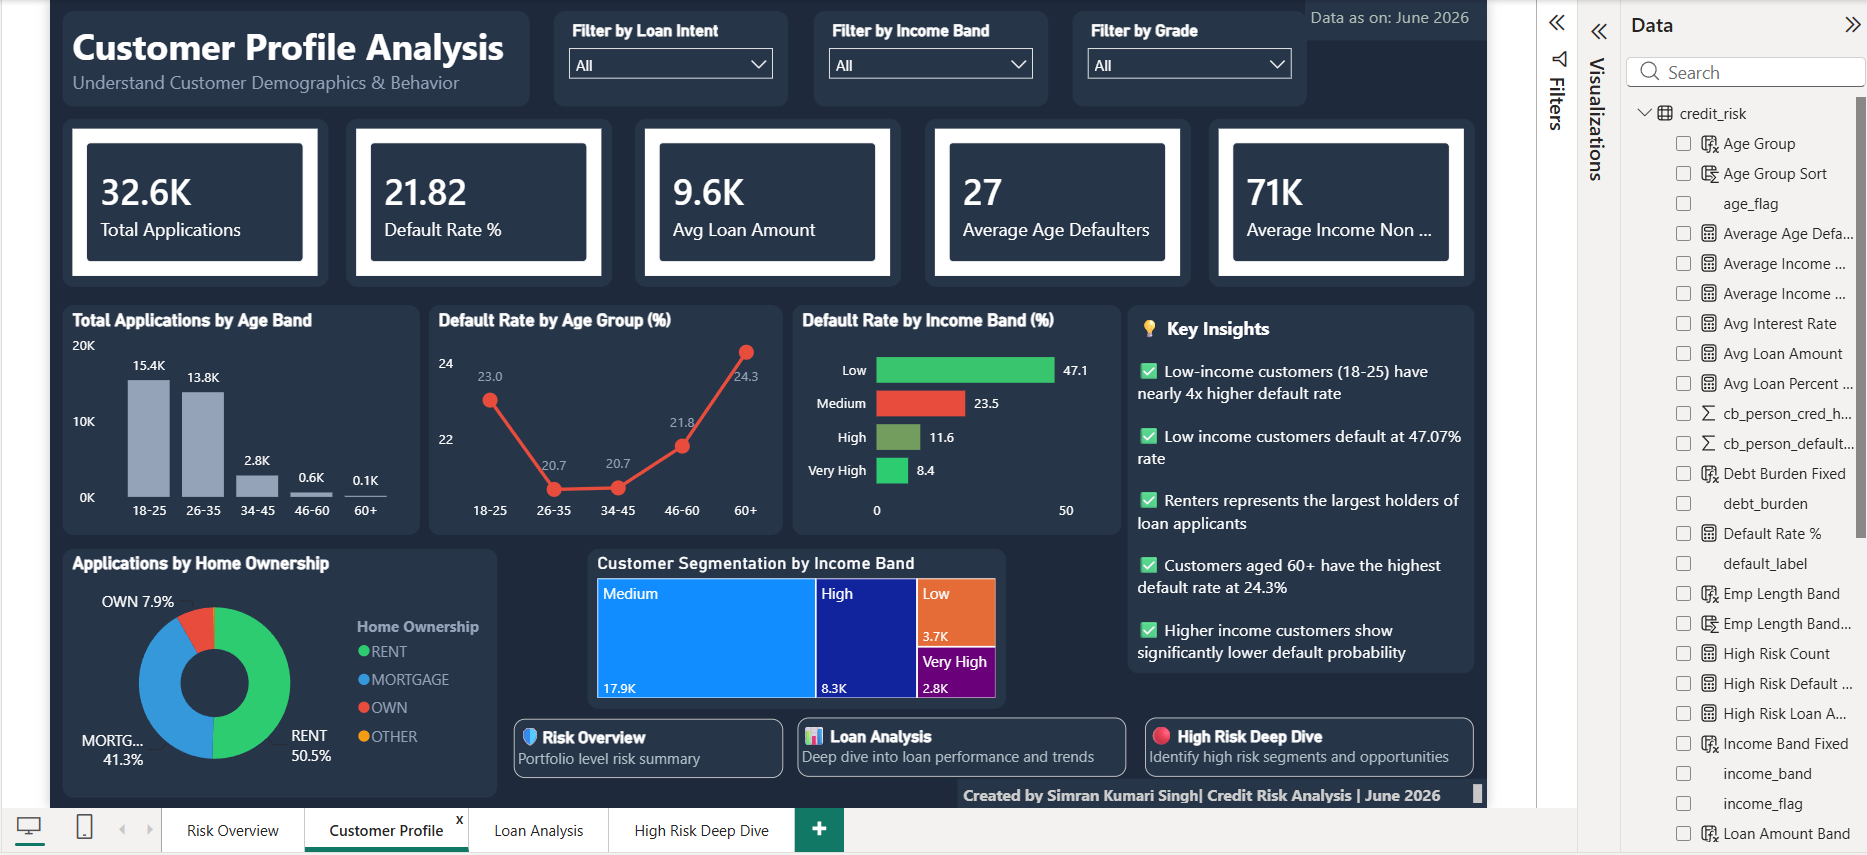

The page's visual inventory and layout, read from the dashboard file:
{"tool":"powerbi","page":{"name":"Customer Profile","canvas":[1280,720],"ordinal":1},"visuals":[{"type":"textbox","box":[10.9,9.7,416.2,84.5],"z":0},{"type":"slicer","fields":{"Values":["credit_risk.loan_intent"]},"box":[448.8,9.7,208.7,84.5],"z":1000},{"type":"slicer","fields":{"Values":["credit_risk.Income Band Fixed"]},"box":[680.4,9.7,208.7,84.5],"z":2000},{"type":"slicer","fields":{"Values":["credit_risk.loan_grade"]},"box":[910.9,9.7,208.7,84.5],"z":3000},{"type":"cardVisual","fields":{"Data":["credit_risk.Total Applications"]},"box":[10.9,106.2,236.5,149.6],"z":4000},{"type":"cardVisual","fields":{"Data":["credit_risk.Default Rate %"]},"box":[264.2,106.2,236.5,149.6],"z":5000},{"type":"cardVisual","fields":{"Data":["credit_risk.Avg Loan Amount"]},"box":[521.2,106.2,236.5,149.6],"z":6000},{"type":"cardVisual","fields":{"Data":["credit_risk.Average Age Defaulters"]},"box":[779.4,106.2,236.5,149.6],"z":7000},{"type":"cardVisual","fields":{"Data":["credit_risk.Average Income Non Defaulters"]},"box":[1031.5,106.2,236.5,149.6],"z":8000},{"type":"clusteredColumnChart","title":"Total Applications by Age Band","fields":{"Category":["credit_risk.Age Group"],"Y":["credit_risk.Total Applications"]},"box":[10.9,271.4,318.5,205.1],"z":9000},{"type":"lineChart","title":"Default Rate by Age Group (%)","fields":{"Y":["credit_risk.Default Rate %"],"Category":["credit_risk.Age Group"]},"box":[337.8,271.4,314.9,205.1],"z":10000},{"type":"clusteredBarChart","title":"Default Rate by Income Band (%)","fields":{"Category":["credit_risk.Income Band Fixed"],"Y":["credit_risk.Default Rate %"]},"box":[661.1,271.4,293.2,205.1],"z":11000},{"type":"donutChart","title":"Applications by Home Ownership","fields":{"Category":["credit_risk.person_home_ownership"],"Y":["credit_risk.Total Applications"]},"box":[10.9,488.6,387.3,222],"z":12000},{"type":"textbox","box":[959.1,271.4,308.8,328.2],"z":13000},{"type":"actionButton","title":"📊 Loan Analysis","box":[666,639.4,293.2,53.1],"z":14000},{"type":"actionButton","title":"🔴 High Risk Deep Dive","box":[974.8,639.4,293.2,53.1],"z":15000},{"type":"actionButton","title":"🛡️Risk Overview","box":[412.6,640.6,240.1,53.1],"z":16000},{"type":"treemap","title":"Customer Segmentation by Income Band","fields":{"Group":["credit_risk.Income Band Fixed"],"Values":["credit_risk.Total Applications"]},"box":[479,488.6,372.8,142.4],"z":17000},{"type":"textbox","box":[808.1,693,472.1,26.7],"z":18000},{"type":"textbox","box":[1117.2,0,162.9,36.2],"z":19000}]}

Visuals, with their boxes on the page's 1280x720 design canvas (x1, y1, x2, y2). These are canvas units, not pixel positions in the 1867x855 screenshot, which may show the page scaled, cropped or inside an application window:
textbox: x1=11 y1=10 x2=427 y2=94
slicer - credit_risk.loan_intent: x1=449 y1=10 x2=658 y2=94
slicer - credit_risk.Income Band Fixed: x1=680 y1=10 x2=889 y2=94
slicer - credit_risk.loan_grade: x1=911 y1=10 x2=1120 y2=94
cardVisual - credit_risk.Total Applications: x1=11 y1=106 x2=247 y2=256
cardVisual - credit_risk.Default Rate %: x1=264 y1=106 x2=501 y2=256
cardVisual - credit_risk.Avg Loan Amount: x1=521 y1=106 x2=758 y2=256
cardVisual - credit_risk.Average Age Defaulters: x1=779 y1=106 x2=1016 y2=256
cardVisual - credit_risk.Average Income Non Defaulters: x1=1032 y1=106 x2=1268 y2=256
"Total Applications by Age Band" clusteredColumnChart: x1=11 y1=271 x2=329 y2=476
"Default Rate by Age Group (%)" lineChart: x1=338 y1=271 x2=653 y2=476
"Default Rate by Income Band (%)" clusteredBarChart: x1=661 y1=271 x2=954 y2=476
"Applications by Home Ownership" donutChart: x1=11 y1=489 x2=398 y2=711
textbox: x1=959 y1=271 x2=1268 y2=600
"📊 Loan Analysis" actionButton: x1=666 y1=639 x2=959 y2=692
"🔴 High Risk Deep Dive" actionButton: x1=975 y1=639 x2=1268 y2=692
"🛡️Risk Overview" actionButton: x1=413 y1=641 x2=653 y2=694
"Customer Segmentation by Income Band" treemap: x1=479 y1=489 x2=852 y2=631
textbox: x1=808 y1=693 x2=1280 y2=720
textbox: x1=1117 y1=0 x2=1280 y2=36
